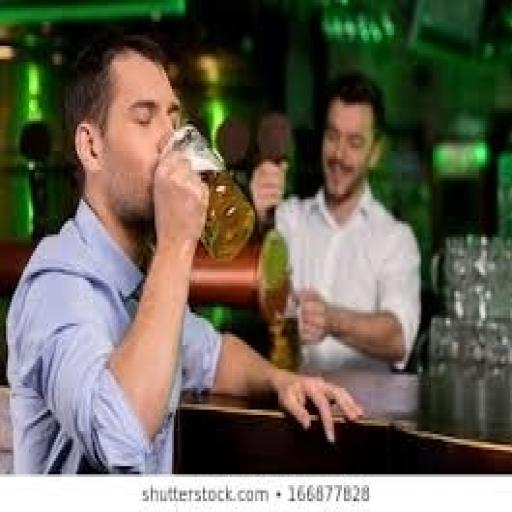drinking: (157, 122, 255, 262)
